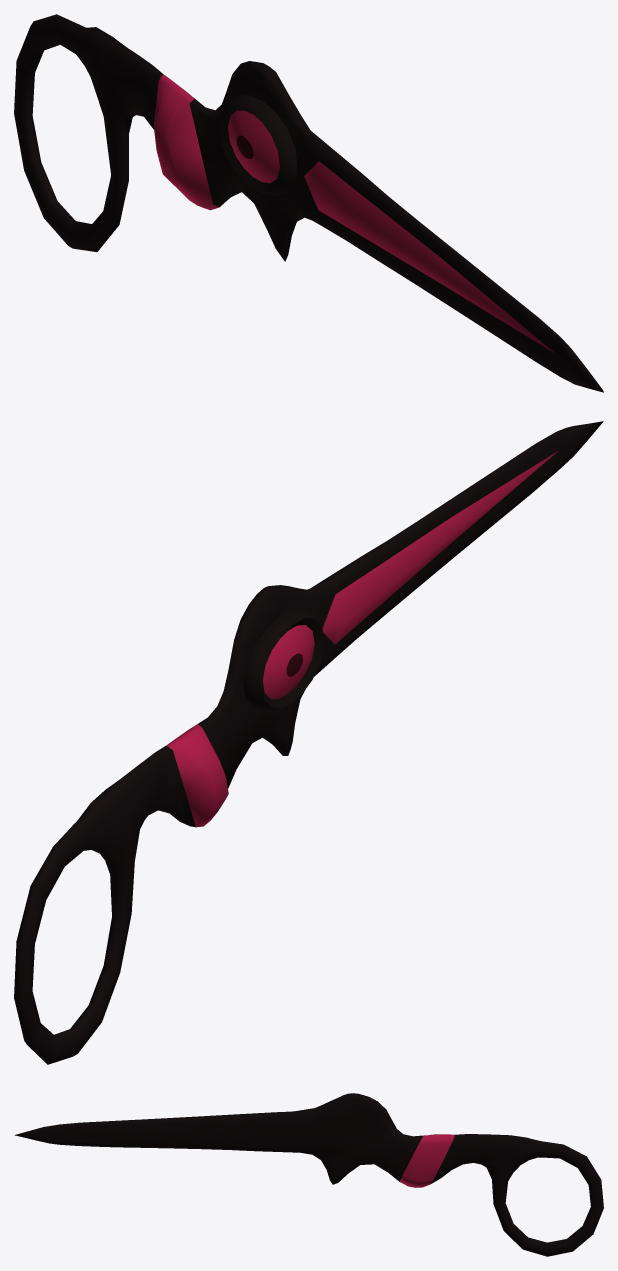
Rendered from ScissorRight.fbx.
3 views of the same model, one above another, from view 1: azimuth 30°, elevation 25°; view 2: azimuth 150°, elevation 25°; view 3: azimuth 270°, elevation 25° (orthographic). The views are drawn at different scales.
Parts seen in each view (by area): view 1: meshScissorR; view 2: meshScissorR; view 3: meshScissorR.
Part boxes in pixels (box(x1,y1,x2,y2)): meshScissorR: box(14, 14, 603, 392); meshScissorR: box(14, 421, 603, 1064); meshScissorR: box(14, 1093, 603, 1256).
Size of the model in its own units: 0.0887 by 0.8061 by 2.65.
